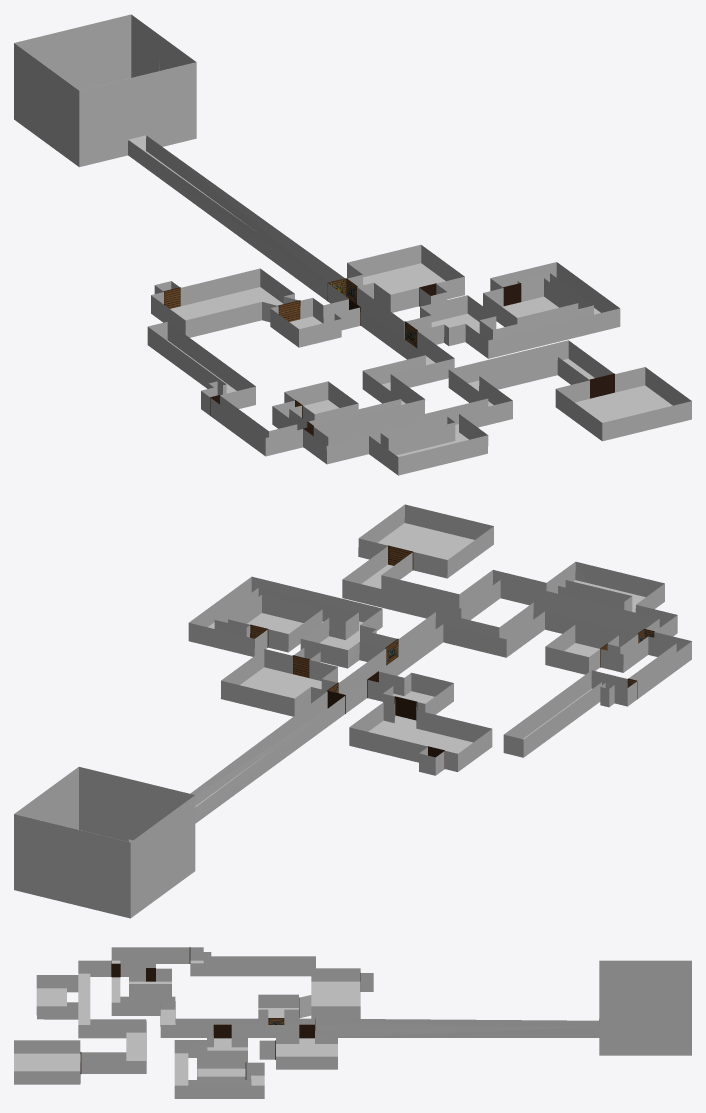
The model's file is Map2.FBX.
3 views of the same model, one above another, from view 1: azimuth 30°, elevation 25°; view 2: azimuth 150°, elevation 25°; view 3: azimuth 270°, elevation 25° (orthographic). The views are drawn at different scales.
Visible parts, largest first — view 1: Walls, BossWalls, Floor, Windows; view 2: Walls, BossWalls, Floor, Windows; view 3: Walls, Floor, BossWalls, Windows, Lock5.
Part boxes in pixels (x1=…): Walls: x1=128, y1=135, x2=691, y2=475; BossWalls: x1=14, y1=14, x2=196, y2=167; Floor: x1=128, y1=135, x2=672, y2=456; Windows: x1=29, y1=38, x2=180, y2=143; Walls: x1=129, y1=504, x2=691, y2=842; BossWalls: x1=14, y1=766, x2=195, y2=918; Floor: x1=195, y1=523, x2=645, y2=807; Windows: x1=28, y1=792, x2=184, y2=891; Walls: x1=14, y1=947, x2=599, y2=1098; Floor: x1=14, y1=960, x2=360, y2=1085; BossWalls: x1=599, y1=960, x2=691, y2=1055; Windows: x1=614, y1=969, x2=674, y2=1044; Lock5: x1=213, y1=1024, x2=231, y2=1038.
Bounding box in the file's own units: 4077 × 747 × 8445.
